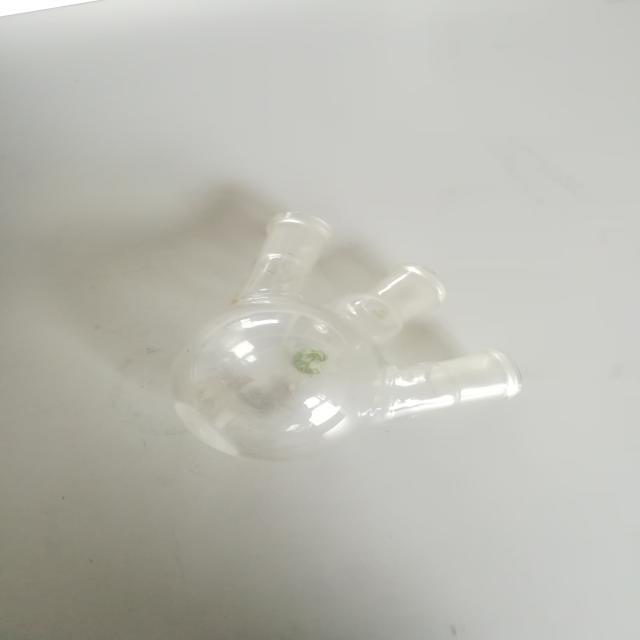Round_Bottom_Flask_Borosilicate_Glass_3_Neck: (134, 165, 552, 488)
